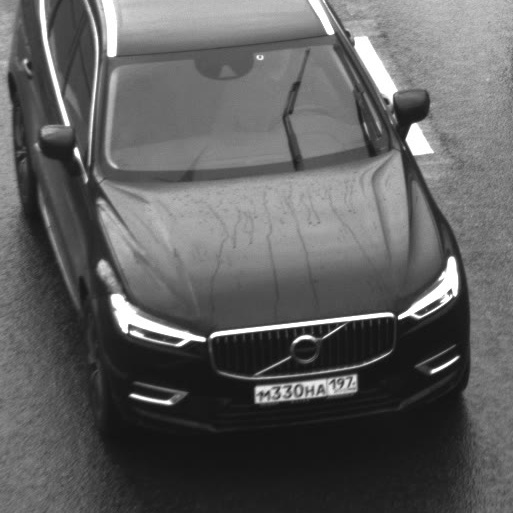plate: (241, 359, 368, 411)
